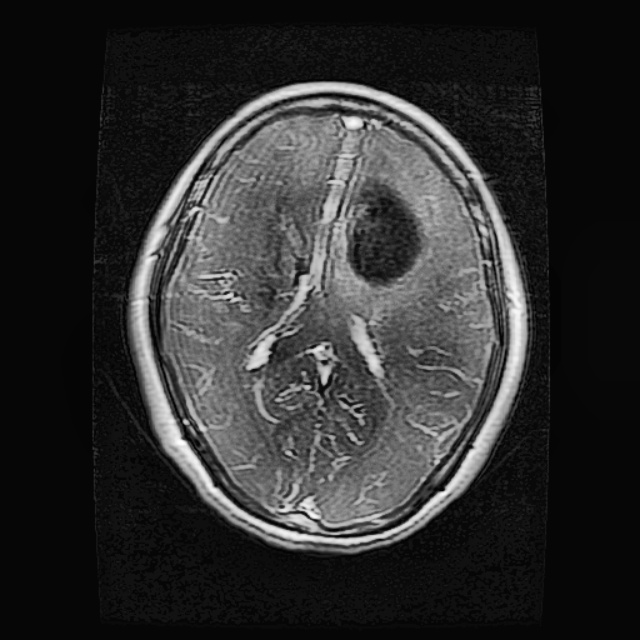Glioma: (349, 182, 423, 287)
